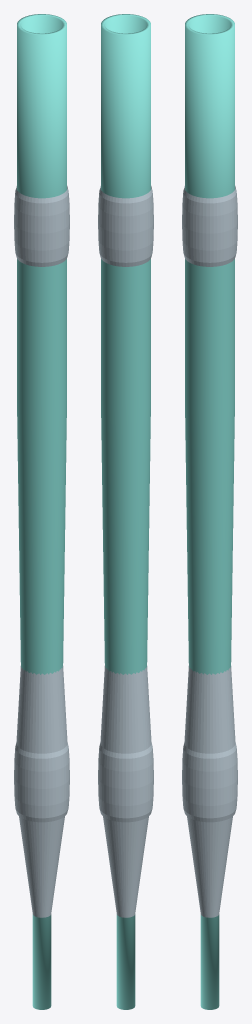
Rendered from Burrete.fbx.
3 renders of one model, left to right at view 1: azimuth 30°, elevation 25°; view 2: azimuth 150°, elevation 25°; view 3: azimuth 330°, elevation 25°, orthographic.
Parts seen in each view (by area): view 1: Cylinder, Torus.001, Torus; view 2: Cylinder, Torus.001, Torus; view 3: Cylinder, Torus.001, Torus.
Boxes of the visible parts, x1,y1,x2,y2 form: Cylinder: (17,14,66,1009); Torus.001: (14,666,69,917); Torus: (14,186,69,266); Cylinder: (101,14,150,1009); Torus.001: (98,666,153,917); Torus: (98,186,153,266); Cylinder: (185,14,234,1009); Torus.001: (182,666,237,917); Torus: (182,186,237,266).
Size of the model in its own units: 70 by 1355 by 70.
